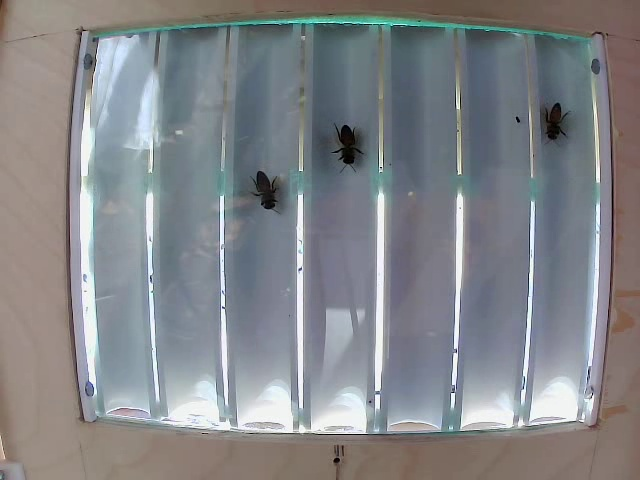bee: (249, 159, 294, 214), (336, 127, 369, 174), (542, 96, 562, 141)
